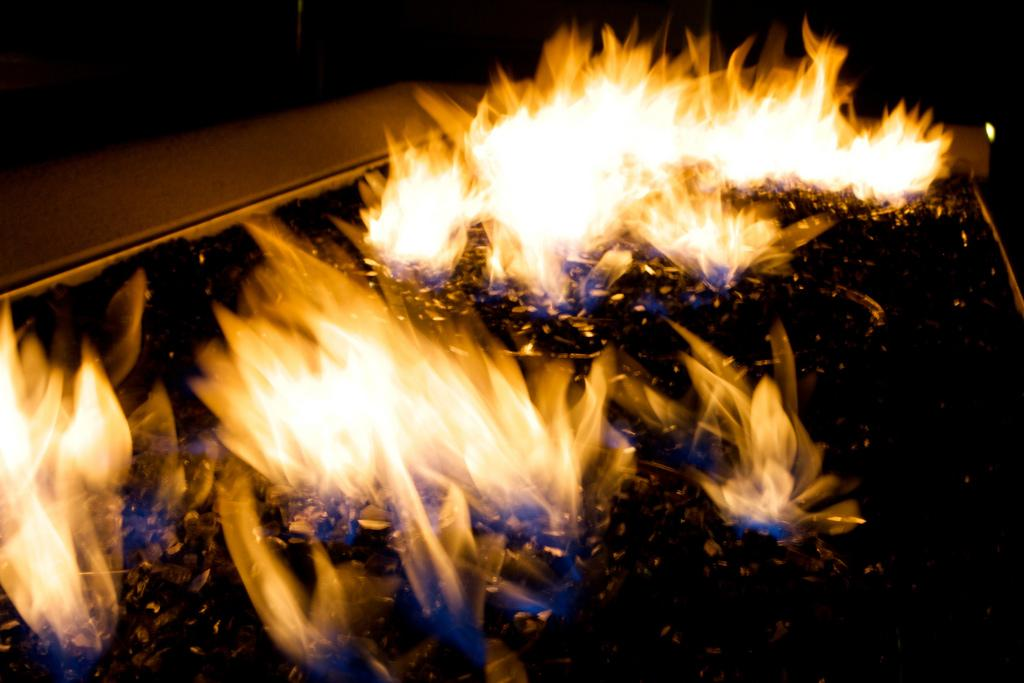fire: (242, 368, 572, 508), (0, 400, 110, 602), (500, 102, 632, 255), (702, 118, 837, 185), (380, 168, 463, 268), (865, 132, 927, 198)
